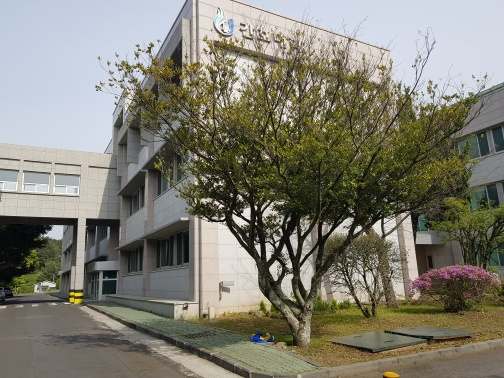College of Nursing: (102, 34, 498, 265)
